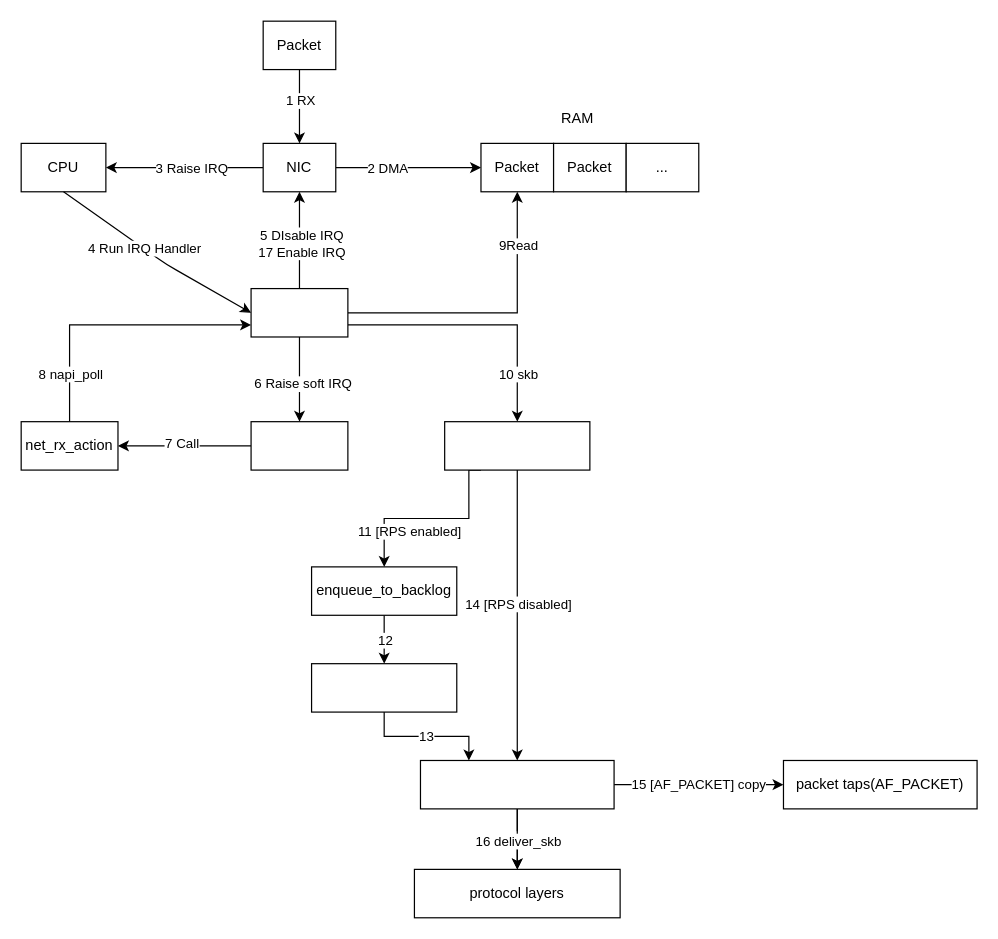
Some shapes in this 998 by 939 pixel diagram are drawn without their labels. Each missing label, with the box of its shape:
__netif_receive_skb_core: (419, 759, 614, 809)
CPU input_pkt_queue: (310, 662, 457, 712)
ksoftirqd: (250, 420, 348, 470)
napi_gro_receive: (443, 420, 590, 470)
NIC Driver: (250, 287, 348, 337)
